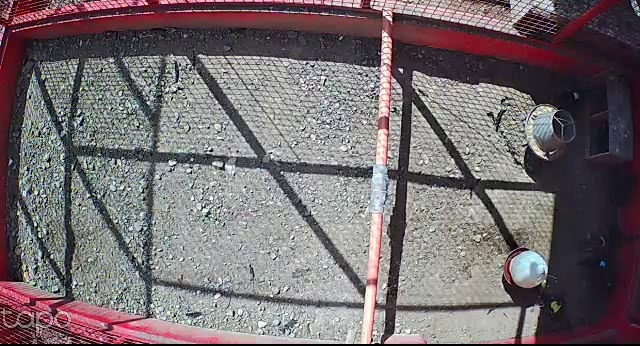Chicken: (535, 288, 582, 335), (577, 252, 627, 275)
Drinker: (501, 245, 550, 288)
Feeder: (525, 103, 576, 164)
Saddle_Color_Blue: (599, 260, 607, 268)
Saddle_Color_Yellow: (550, 299, 561, 312)
